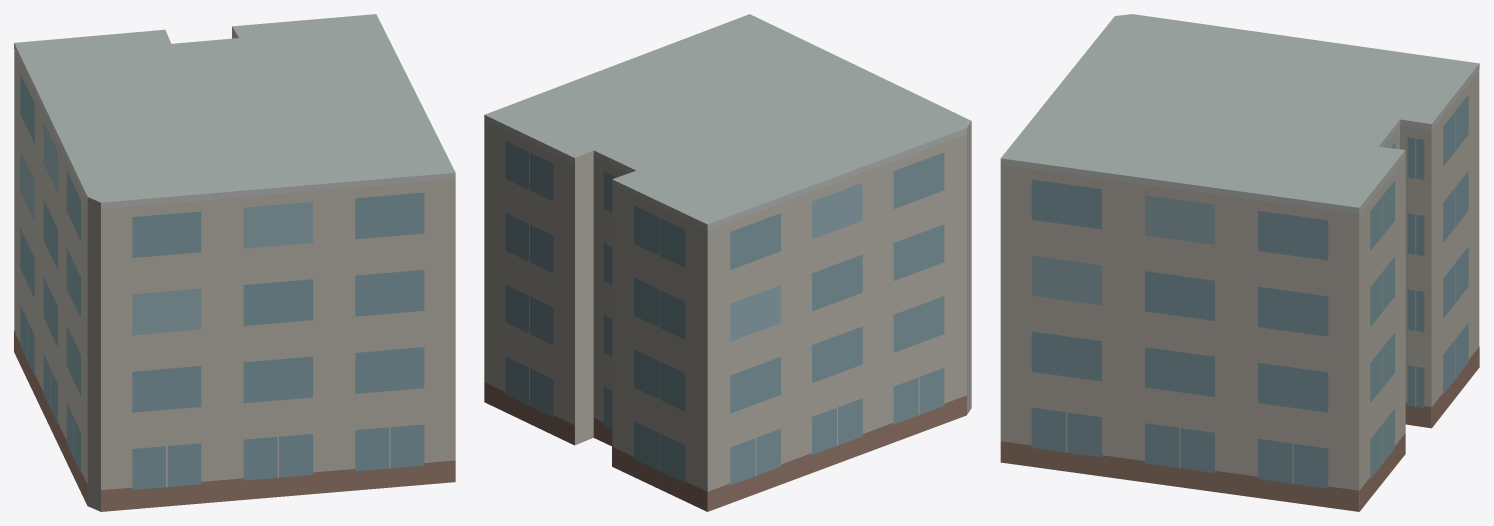
Rendered from survey-upis-32778832.glb.
3 views of the same model, side by side, from view 1: azimuth 30°, elevation 25°; view 2: azimuth 150°, elevation 25°; view 3: azimuth 270°, elevation 25° (orthographic). The views are drawn at different scales.
Parts seen in each view (by area): view 1: survey-upis-32778832.tmp; view 2: survey-upis-32778832.tmp; view 3: survey-upis-32778832.tmp.
Part boxes in pixels (bbox=[...]): survey-upis-32778832.tmp: bbox=[14, 14, 455, 511]; survey-upis-32778832.tmp: bbox=[484, 14, 971, 511]; survey-upis-32778832.tmp: bbox=[1000, 14, 1479, 511].
Size of the model in its own units: 15.85 by 11.59 by 16.55.
